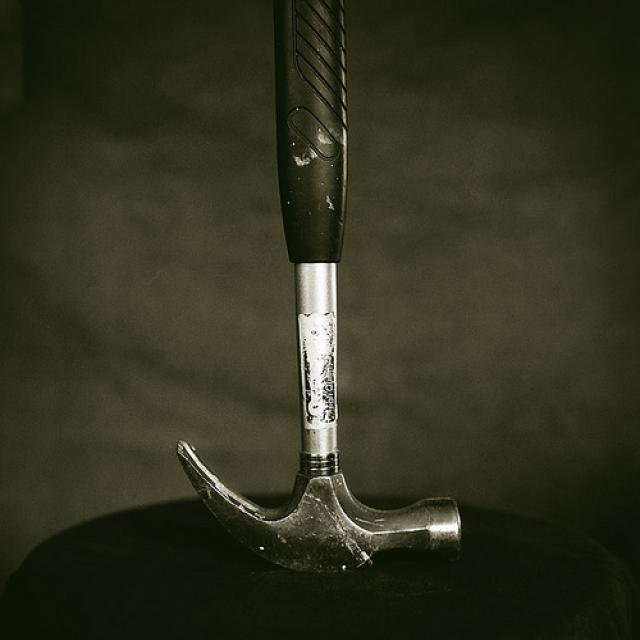hammer: (168, 0, 476, 585)
